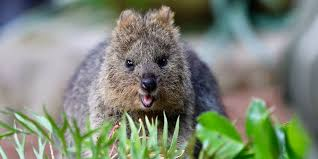quokka: (59, 6, 223, 146)
